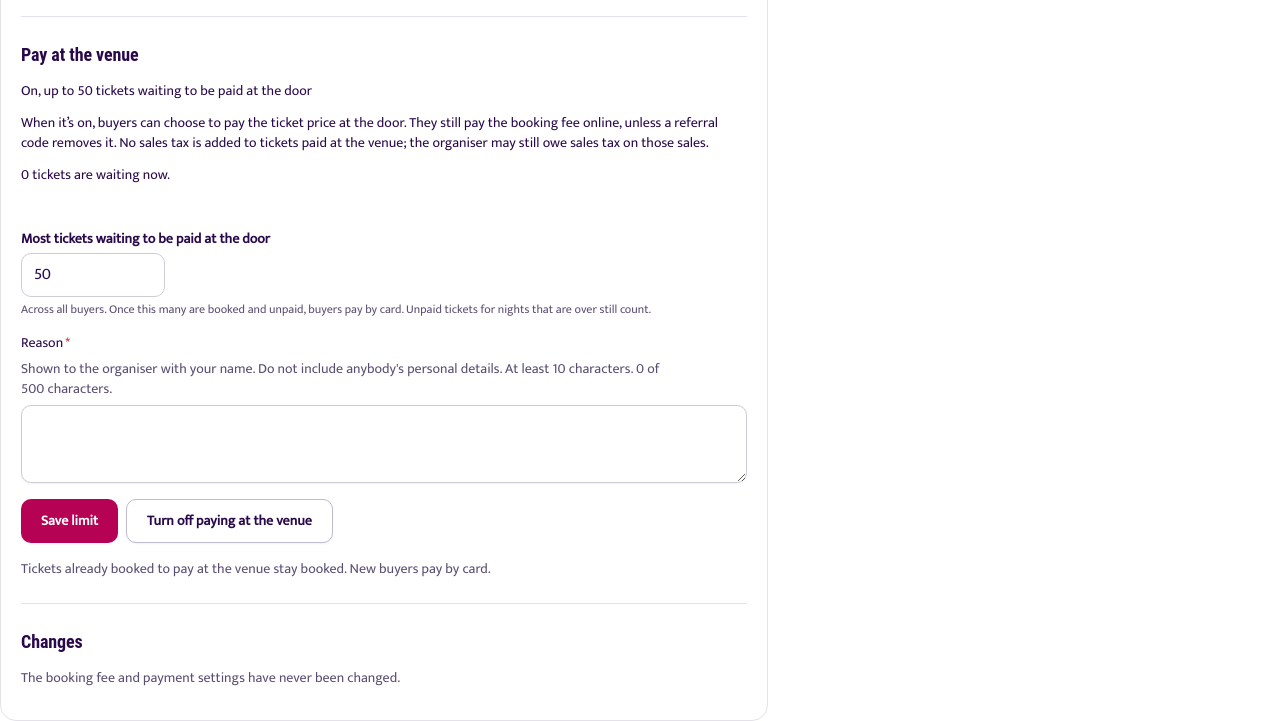
Scenario: paying at the venue › moves focus to the button drawn in place of the one pressed, turning off and on
(page scrolled)
Type "Agreed with the organiser for this launch." into the text box labelled "Reason*" below "0 tickets are waiting now." at (384, 444), box [21, 405, 747, 483]
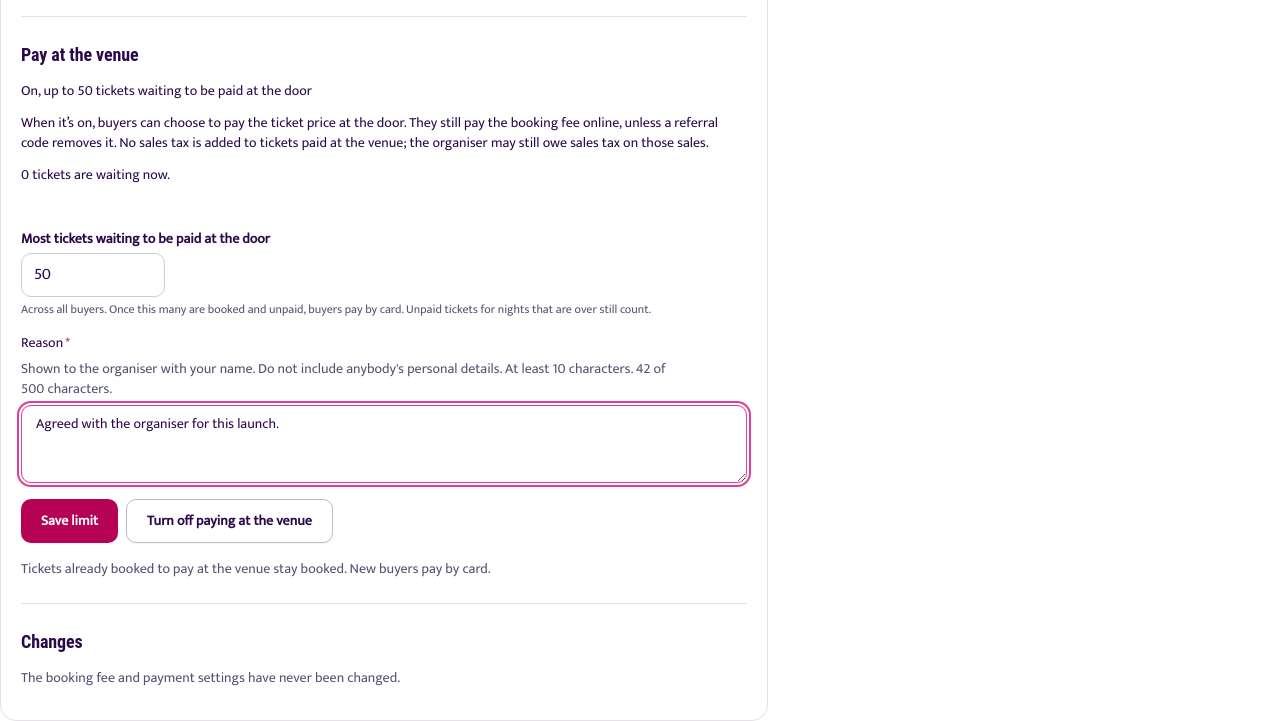
Click the button "Turn off paying at the venue" at (229, 521), box [126, 499, 333, 543]
(page scrolled)
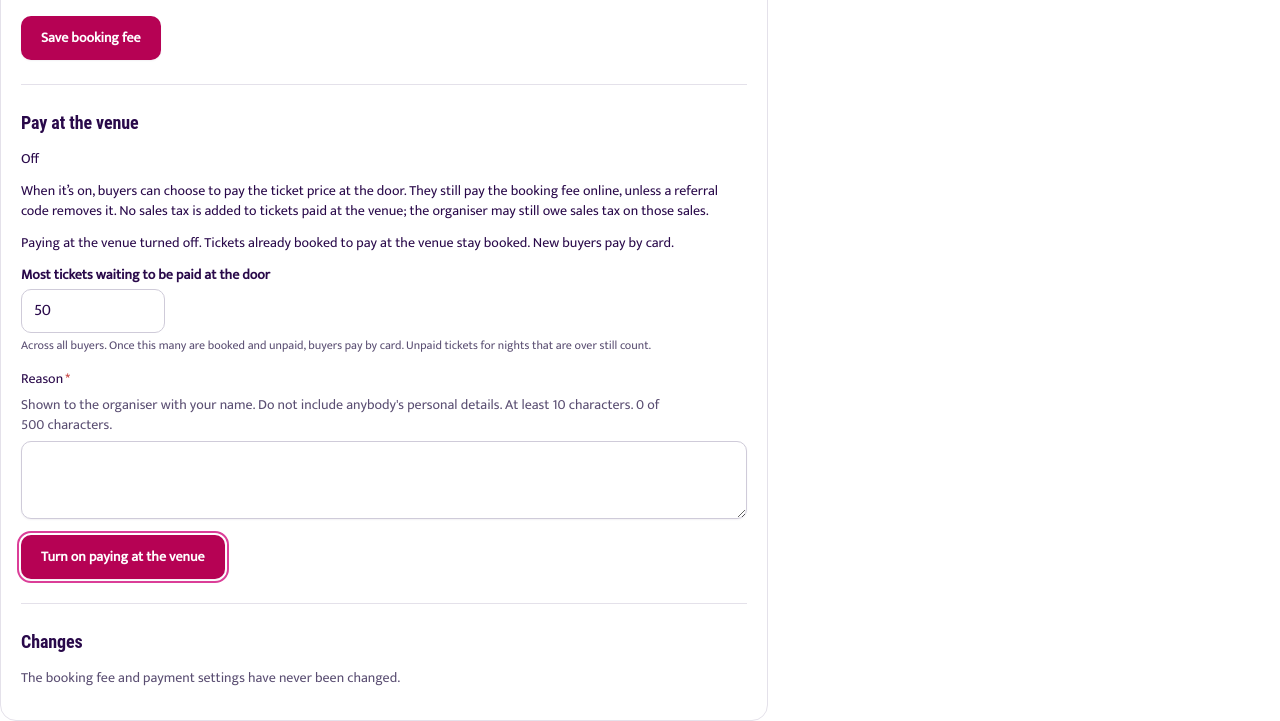
Result: the text "Paying at the venue turned off." is shown at [21, 231, 674, 254]
Type "Agreed with the organiser for this launch." into the 2nd text box labelled "Reason*" at (384, 480), box [21, 441, 747, 519]
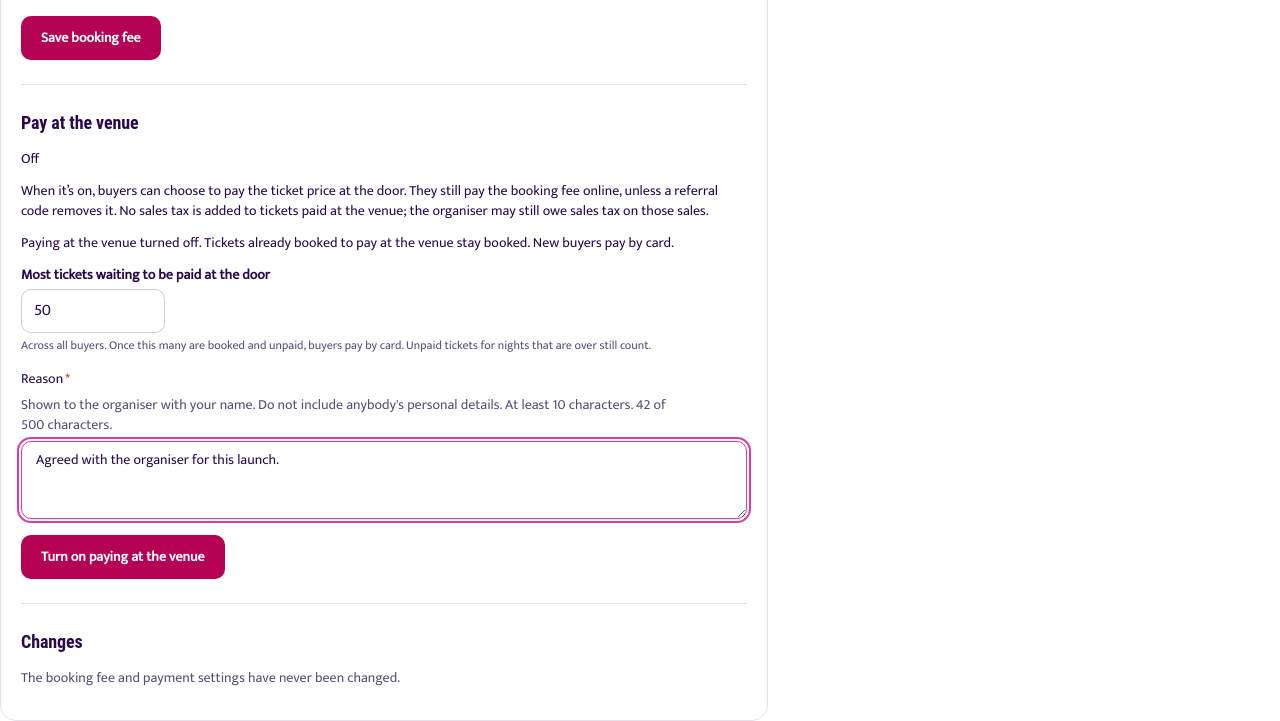
Click the button "Turn on paying at the venue" at (123, 557), box [21, 535, 225, 579]
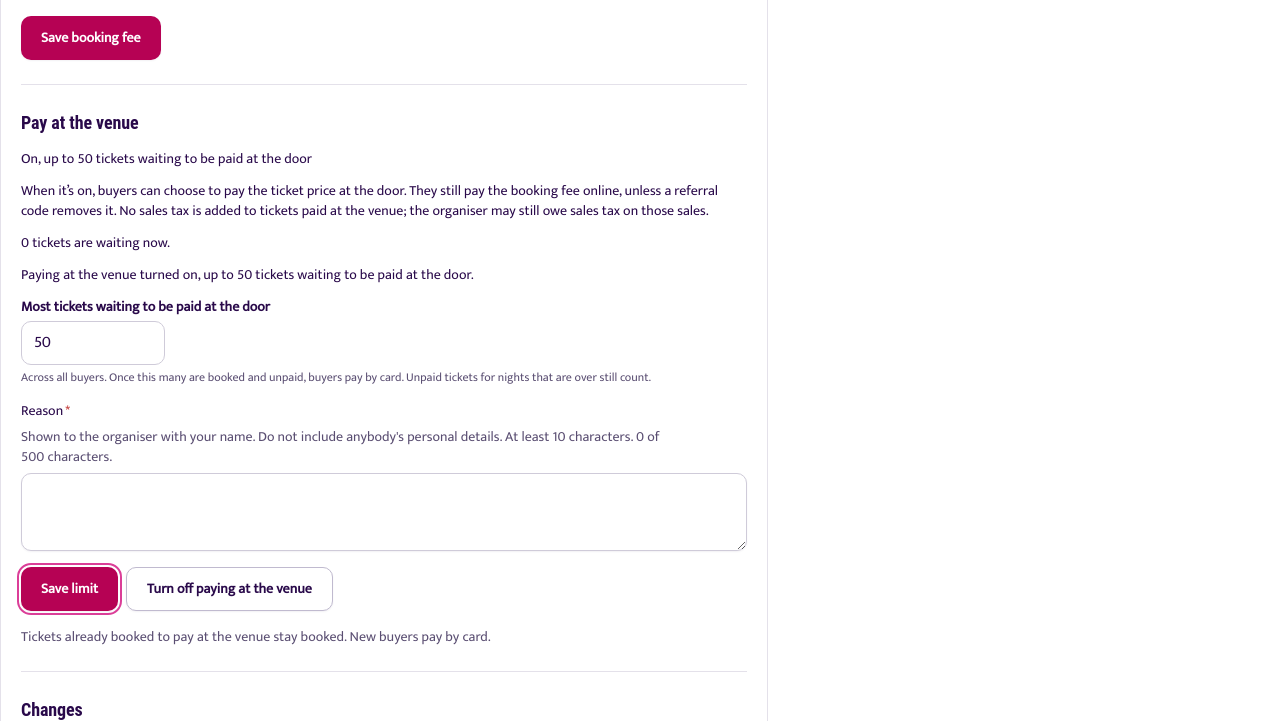
Result: the text "Paying at the venue turned on," is shown at [21, 263, 474, 286]
